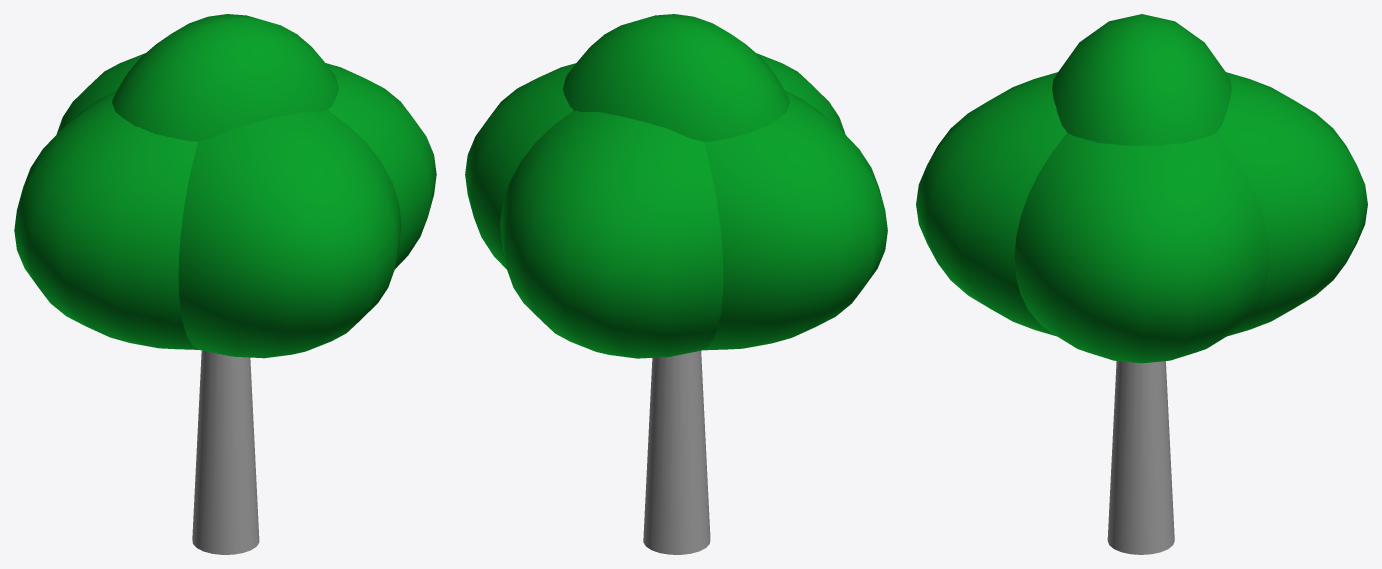
File: Tree_1.fbx
3 views of the same model, side by side, from view 1: azimuth 30°, elevation 25°; view 2: azimuth 150°, elevation 25°; view 3: azimuth 270°, elevation 25° (orthographic).
Parts seen in each view (by area): view 1: pSphere5, pCylinder1; view 2: pSphere5, pCylinder1; view 3: pSphere5, pCylinder1.
Boxes of the visible parts, x1,y1,x2,y2 form: pSphere5: (14, 14, 436, 358); pCylinder1: (192, 350, 259, 554); pSphere5: (465, 14, 887, 358); pCylinder1: (643, 350, 710, 554); pSphere5: (916, 14, 1367, 363); pCylinder1: (1107, 361, 1174, 554).
Size of the model in its own units: 36.55 by 46.06 by 36.55.
